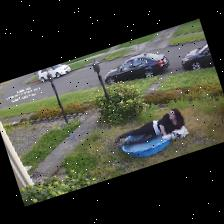person: (114, 109, 183, 148)
